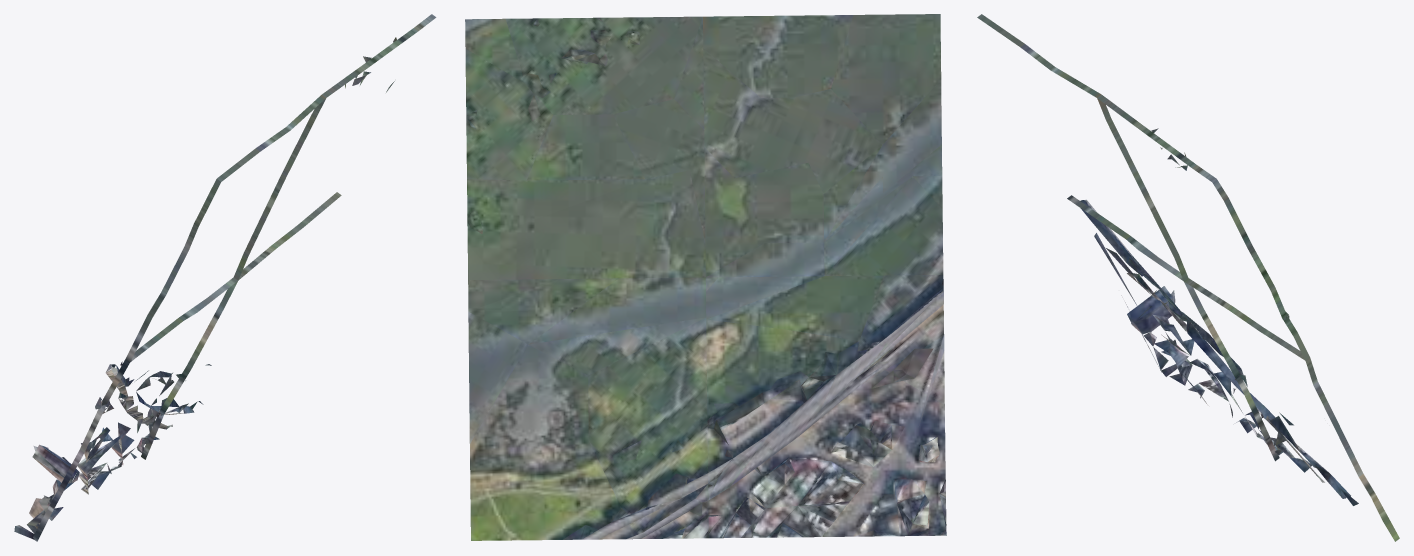
3 renders of one model, left to right at view 1: azimuth 30°, elevation 25°; view 2: azimuth 150°, elevation 25°; view 3: azimuth 270°, elevation 25°, orthographic. The views are drawn at different scales.
Bounding box in the file's own units: 627 × 557 × 517.
1 material, 1 textured.
